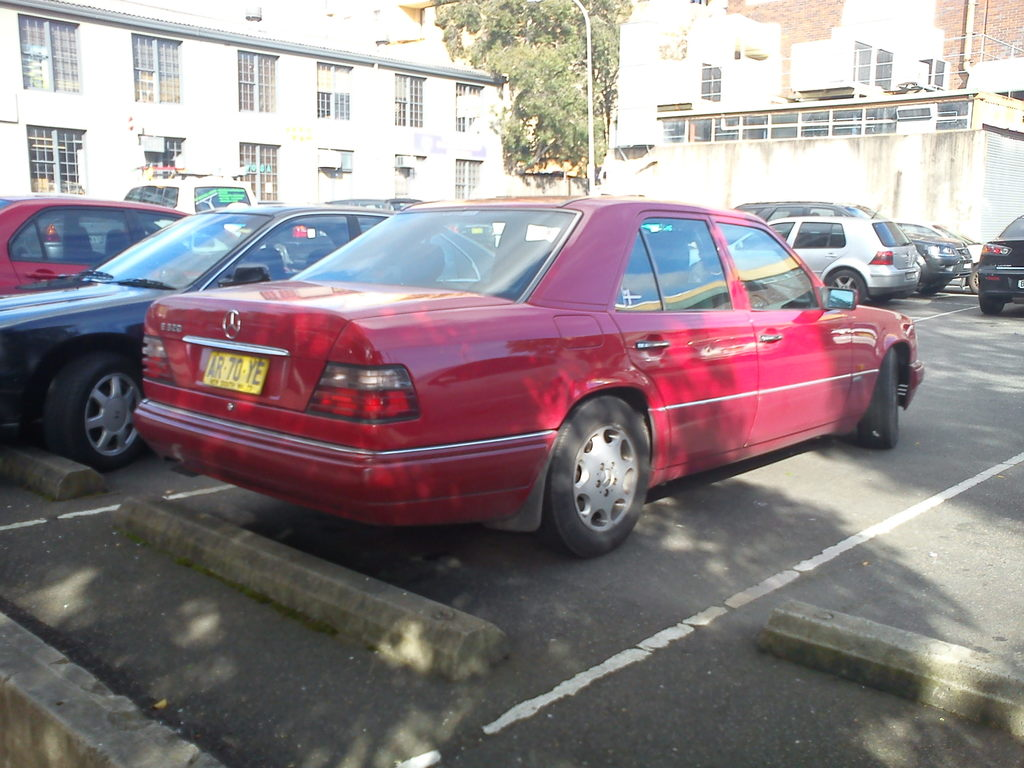license plate: (204, 347, 274, 383)
